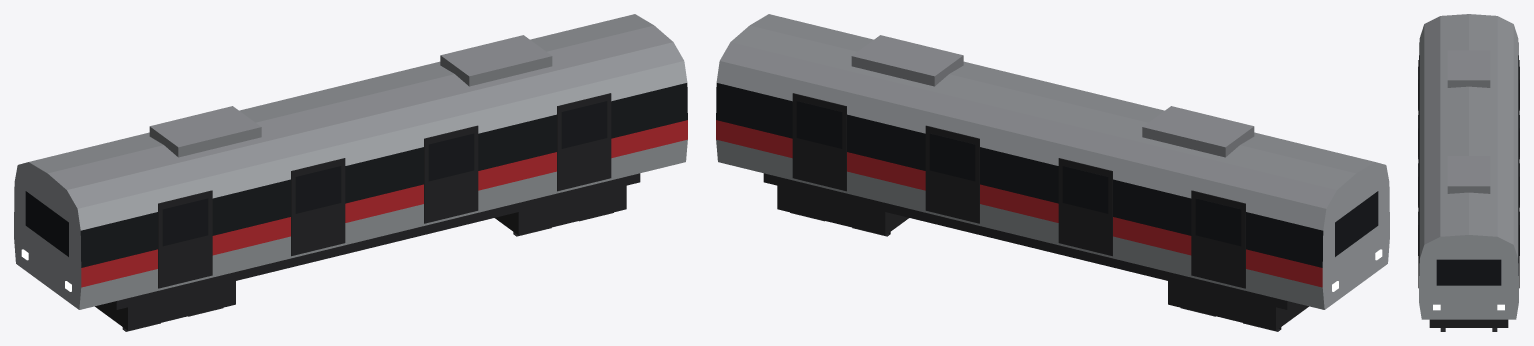
File: l_train.glb
3 renders of one model, left to right at view 1: azimuth 30°, elevation 25°; view 2: azimuth 150°, elevation 25°; view 3: azimuth 270°, elevation 25°, orthographic. The views are drawn at different scales.
Parts seen in each view (by area): view 1: l_train; view 2: l_train; view 3: l_train.
Part boxes in pixels (box(x1,y1,x2,y2)): l_train: box(14, 14, 687, 331); l_train: box(716, 14, 1389, 331); l_train: box(1418, 14, 1519, 331).
Size of the model in its own units: 14.68 by 3.85 by 2.84.
1 material, 1 textured.
